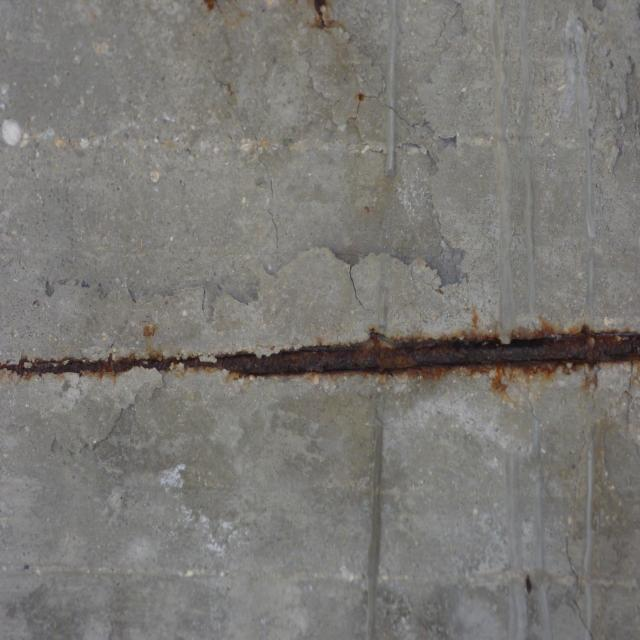corrosion: (0, 319, 640, 418), (165, 0, 412, 218), (518, 571, 542, 606)
